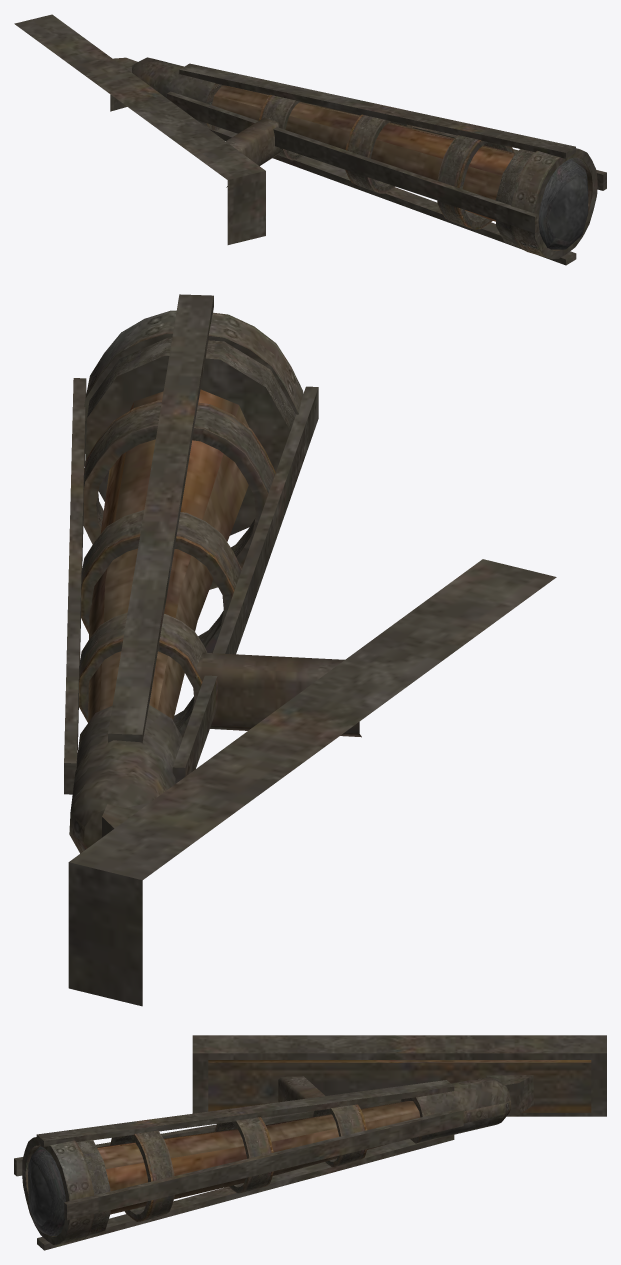
The model's file is VIK_PRO_Torch_Small_Wood_WS_01A_LOD0-transformed.glb.
The picture shows the model from 3 angles, top to bottom: view 1: azimuth 30°, elevation 25°; view 2: azimuth 150°, elevation 25°; view 3: azimuth 270°, elevation 25°; orthographic projection. The views are drawn at different scales.
Visible parts, largest first — view 1: VIK_PRO_Torch_Small_Wood_WS_01A_LOD0; view 2: VIK_PRO_Torch_Small_Wood_WS_01A_LOD0; view 3: VIK_PRO_Torch_Small_Wood_WS_01A_LOD0.
Boxes of the visible parts, box(x1,y1,x2,y2) form: VIK_PRO_Torch_Small_Wood_WS_01A_LOD0: box(14, 14, 606, 265); VIK_PRO_Torch_Small_Wood_WS_01A_LOD0: box(64, 294, 556, 1006); VIK_PRO_Torch_Small_Wood_WS_01A_LOD0: box(14, 1035, 606, 1250).
Size of the model in its own units: 0.00266 by 0.000911 by 0.00448.
3 materials, 3 textured.
